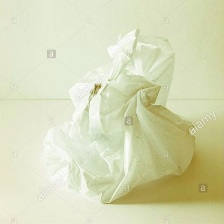plastic_bag: (41, 26, 198, 210)
